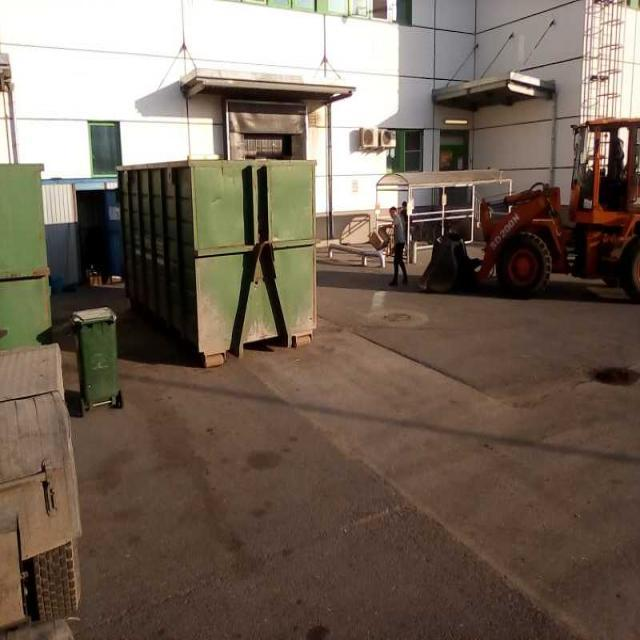Dumpster: (115, 160, 316, 365)
